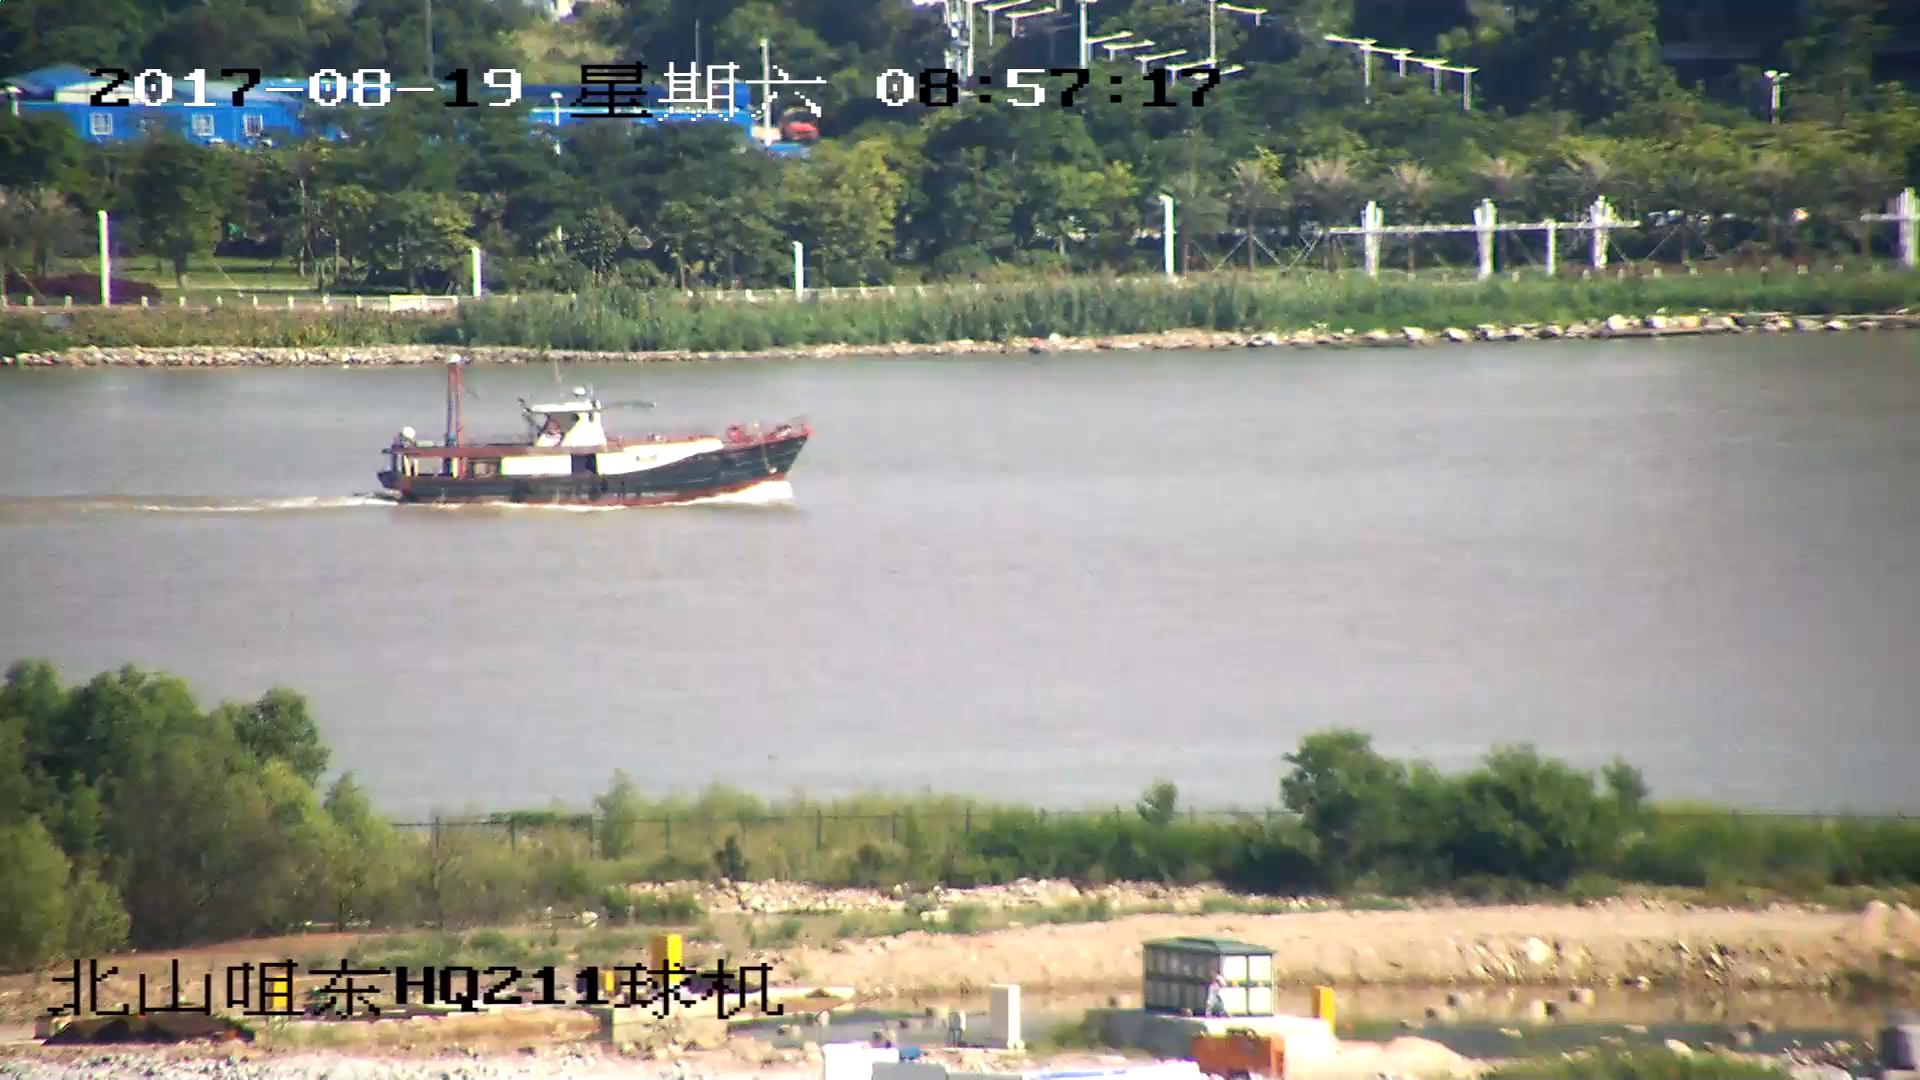fishing boat: (375, 359, 810, 511)
